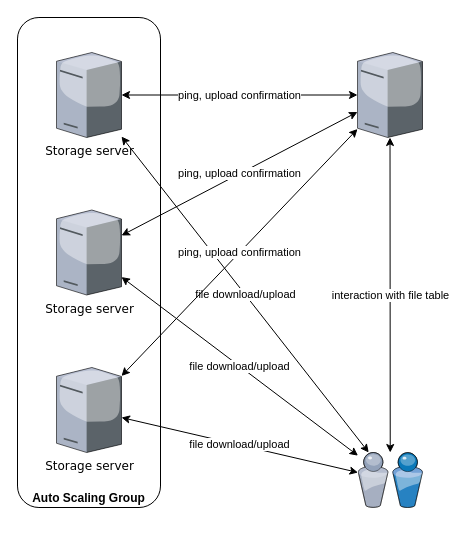
The diagram is 466 pixels wide and 546 high, and some of its shapes have lost their labels. The shapes that lost their labels are listed below. From the top down, each one's centre as x and y in pixels, then its label:
At pixel 389 94: "Naming server".
At pixel 390 479: "User".
